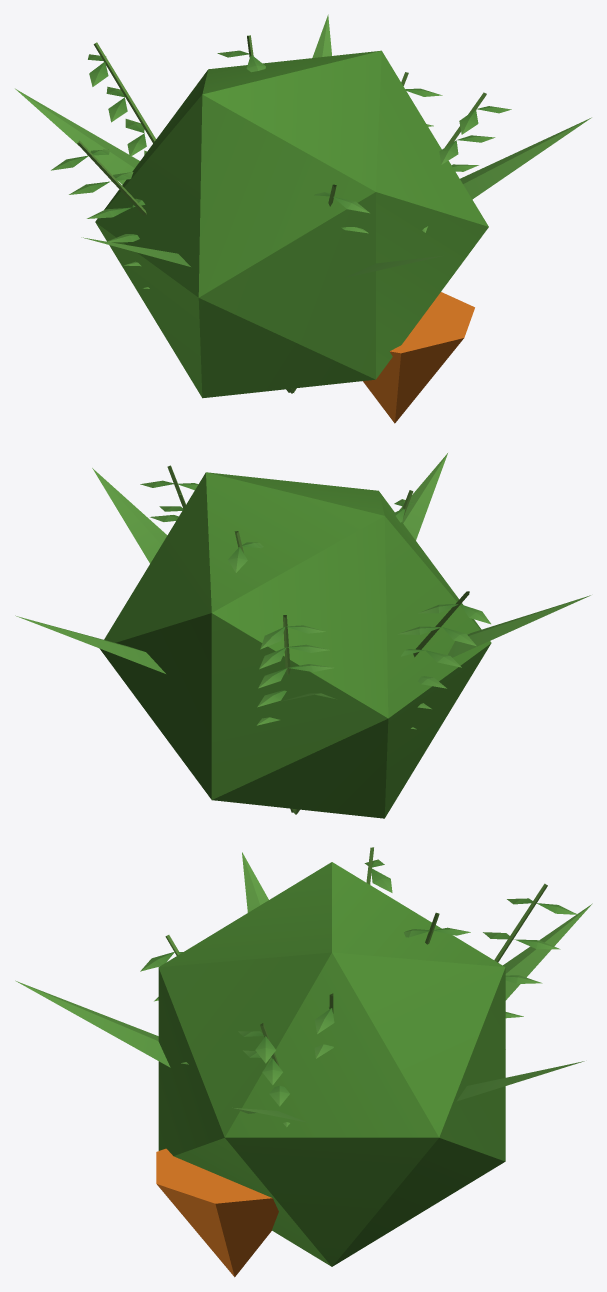
The model's file is carrot.glb.
The picture shows the model from 3 angles, top to bottom: view 1: azimuth 30°, elevation 25°; view 2: azimuth 150°, elevation 25°; view 3: azimuth 270°, elevation 25°; orthographic projection. The views are drawn at different scales.
Parts seen in each view (by area): view 1: leaves (×3), root; view 2: leaves (×3); view 3: leaves (×3), root.
Part boxes in pixels (bbox=[...]): leaves (×3): bbox=[15, 14, 591, 398]; root: bbox=[363, 292, 474, 423]; leaves (×3): bbox=[15, 453, 590, 818]; leaves (×3): bbox=[15, 847, 592, 1266]; root: bbox=[156, 1148, 278, 1277].
Size of the model in its own units: 1.59 by 0.9879 by 1.52.
